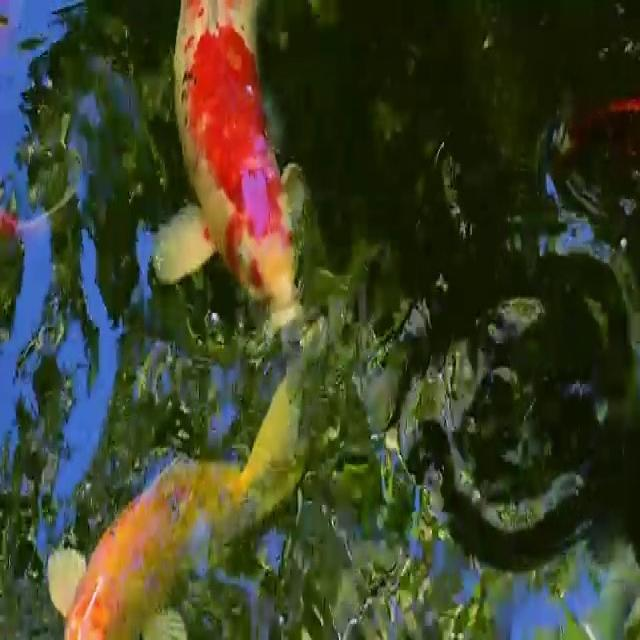fish: (45, 366, 329, 640), (147, 0, 327, 367)
